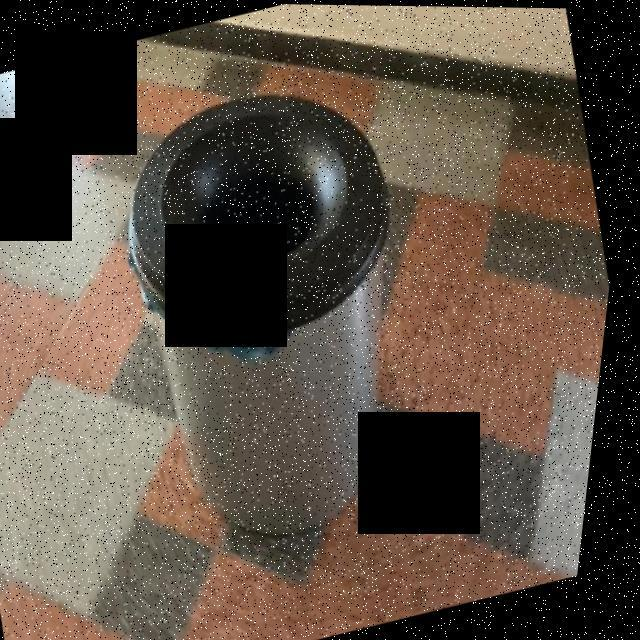bin: (44, 11, 515, 584)
